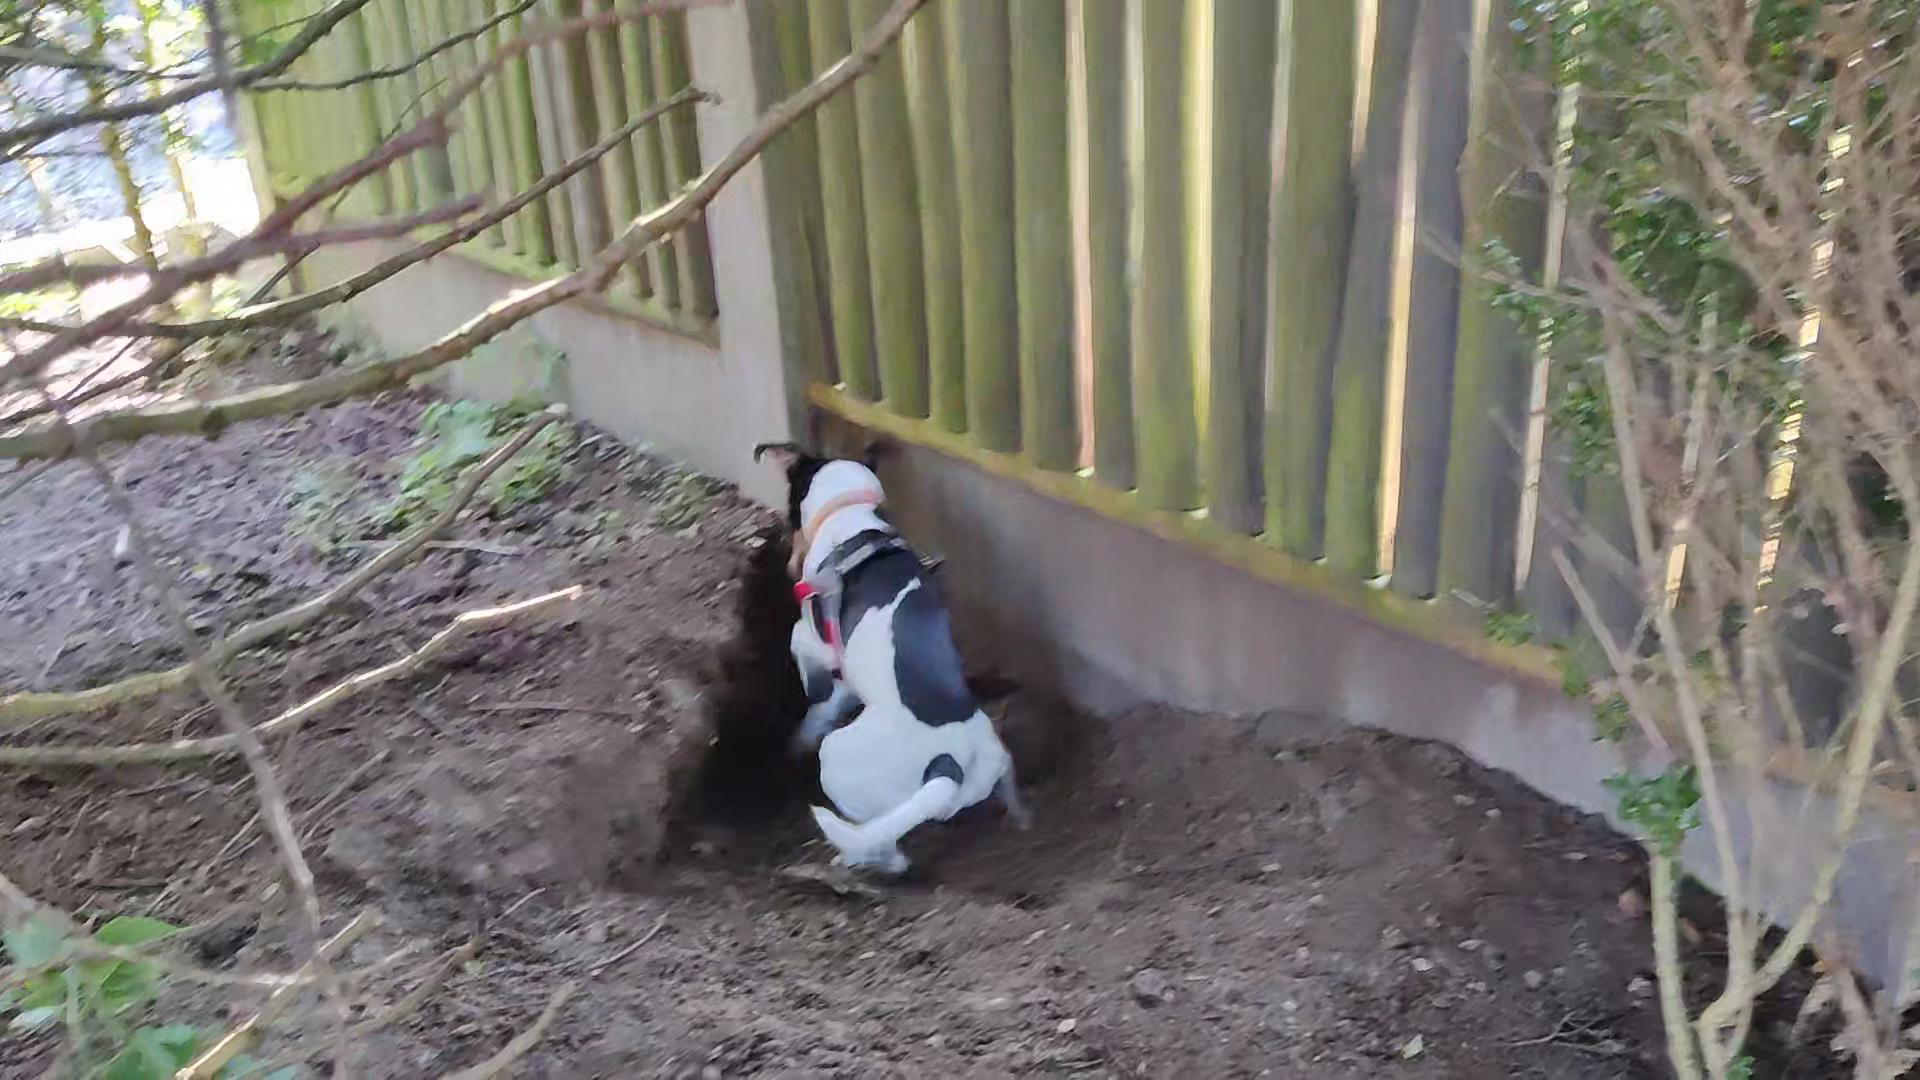Dog: (742, 407, 1044, 891)
